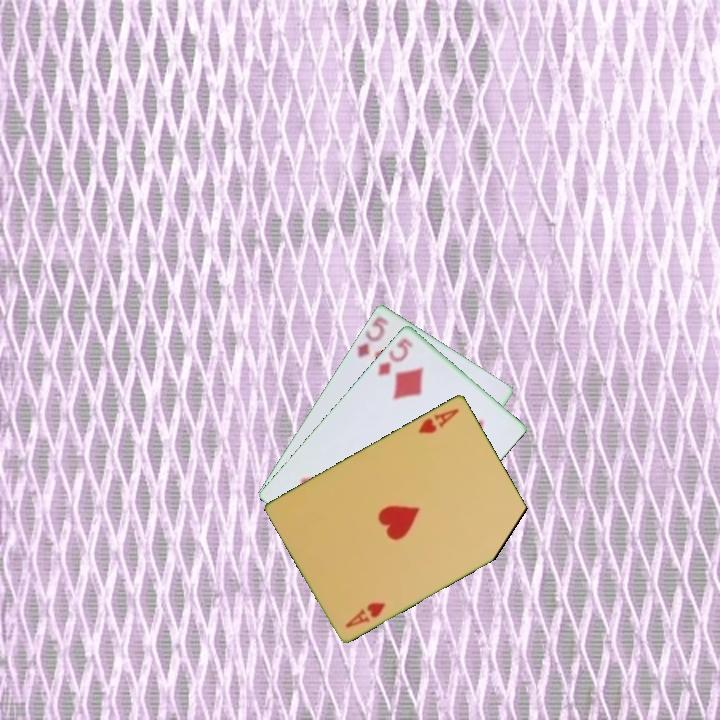5d: (354, 312, 392, 361), (374, 334, 416, 378)
Ah: (414, 405, 462, 436), (342, 598, 388, 630)
